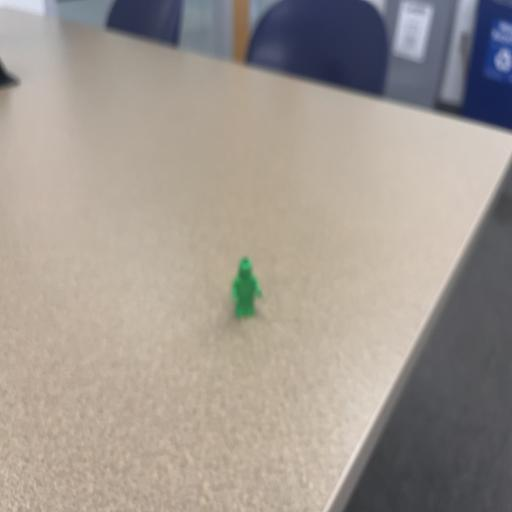Lego-Minifig: (232, 257, 262, 317)
